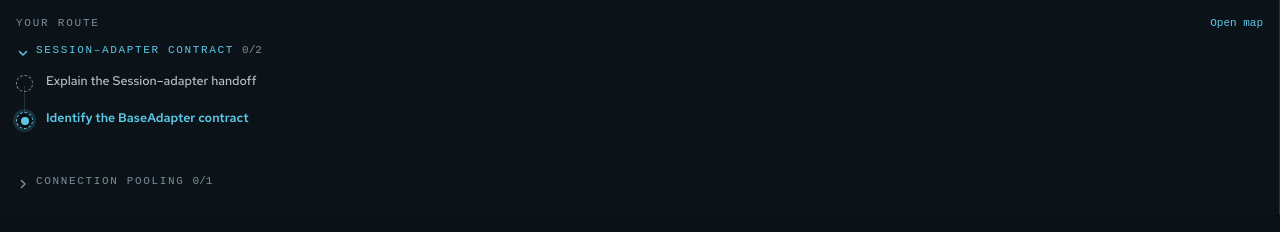
Test: collapsed means collapsed (note 5) › collapsing it hides its stops — including the one you are on
The image size is (1280, 232).
Click the button named "Collapse Session–Adapter contract" at {"x": 23, "y": 53}, box [16,46,30,60]
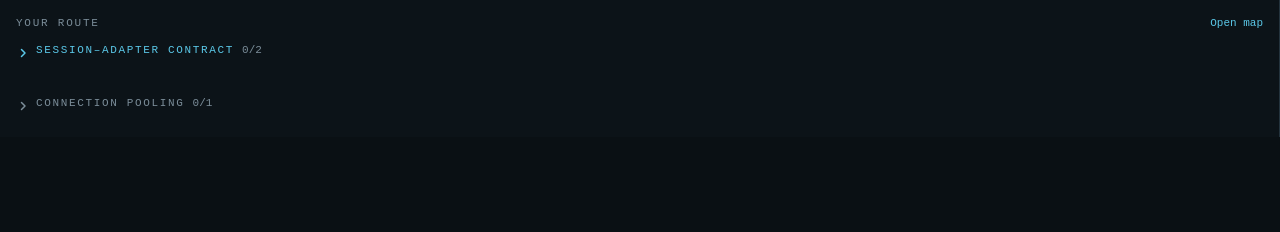
Now the button "Identify the BaseAdapter contract" is gone
Now the button "Explain the Session–adapter handoff" is gone
